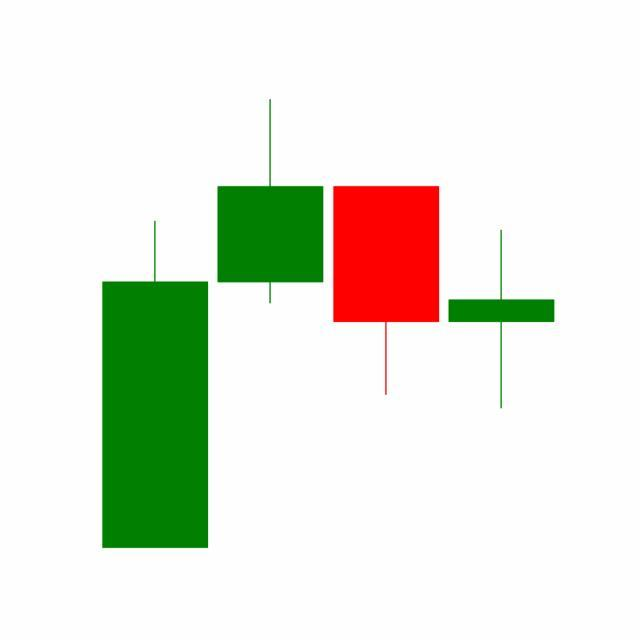Spinning Top: (444, 228, 560, 411)
